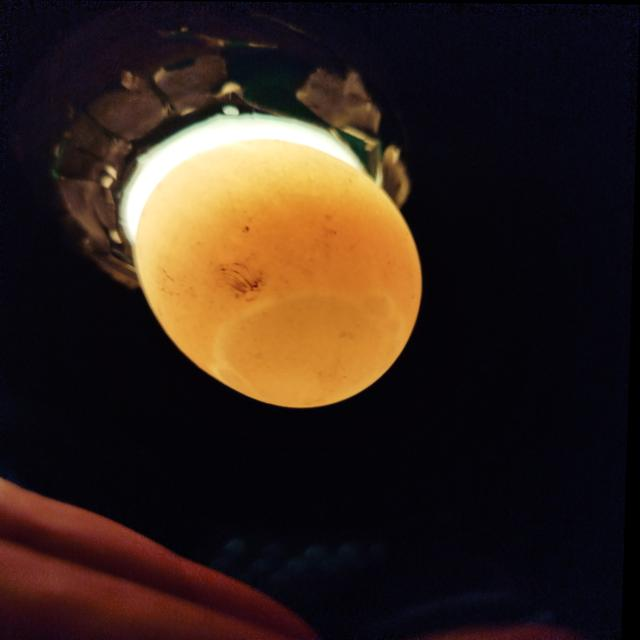Camara de Ar: (216, 288, 408, 408)
